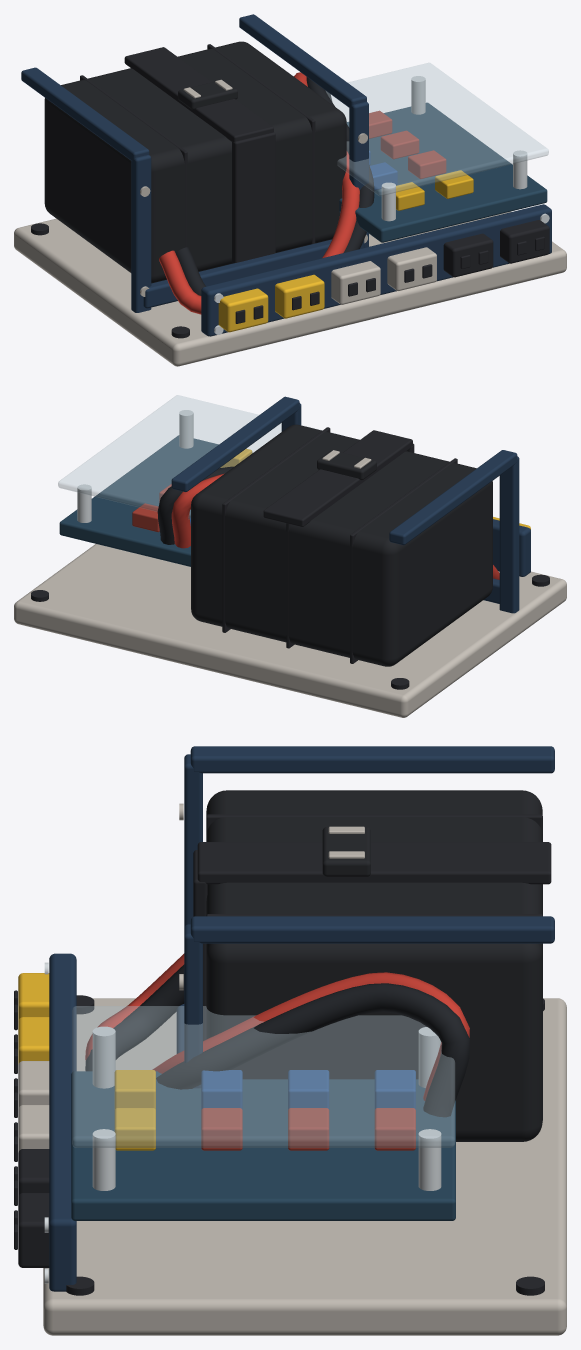
Rendered from robots-55.glb.
3 renders of one model, top to bottom at view 1: azimuth 30°, elevation 25°; view 2: azimuth 150°, elevation 25°; view 3: azimuth 270°, elevation 25°, orthographic. The views are drawn at different scales.
Visible parts, largest first — view 1: pack, frame, shield, cage, board, ports, strap, connector-plate, cables, fuses, buckle; view 2: pack, frame, shield, cage, board, strap, cables, buckle, fuses, connector-plate; view 3: frame, pack, shield, board, cage, cables, strap, fuses, ports, connector-plate, buckle.
Part boxes in pixels (left/top/right/bottom): pack: left=44, top=41, right=346, bottom=283; frame: left=14, top=211, right=566, bottom=366; shield: left=326, top=63, right=548, bottom=221; cage: left=21, top=14, right=368, bottom=312; board: left=339, top=102, right=547, bottom=242; ports: left=218, top=220, right=549, bottom=332; strap: left=124, top=47, right=275, bottom=263; connector-plate: left=201, top=204, right=551, bottom=336; cables: left=159, top=72, right=374, bottom=314; fuses: left=369, top=110, right=473, bottom=210; buckle: left=178, top=79, right=237, bottom=109; pack: left=191, top=424, right=492, bottom=666; frame: left=14, top=544, right=566, bottom=717; shield: left=58, top=395, right=343, bottom=522; cage: left=171, top=396, right=519, bottom=613; board: left=59, top=435, right=218, bottom=566; strap: left=263, top=430, right=414, bottom=526; cables: left=157, top=466, right=499, bottom=579; buckle: left=317, top=450, right=376, bottom=480; fuses: left=132, top=448, right=252, bottom=532; connector-plate: left=493, top=519, right=530, bottom=576; frame: left=43, top=995, right=566, bottom=1335; pack: left=206, top=790, right=542, bottom=1141; shield: left=72, top=1006, right=454, bottom=1190; board: left=71, top=1071, right=455, bottom=1220; cage: left=176, top=746, right=554, bottom=1088; cables: left=85, top=953, right=469, bottom=1117; strap: left=193, top=842, right=551, bottom=1040; fuses: left=114, top=1070, right=415, bottom=1150; ports: left=14, top=973, right=49, bottom=1267; connector-plate: left=44, top=953, right=76, bottom=1291; buckle: left=322, top=826, right=370, bottom=876.
Bounding box in the file's own units: 2.1 × 0.923 × 1.59.
